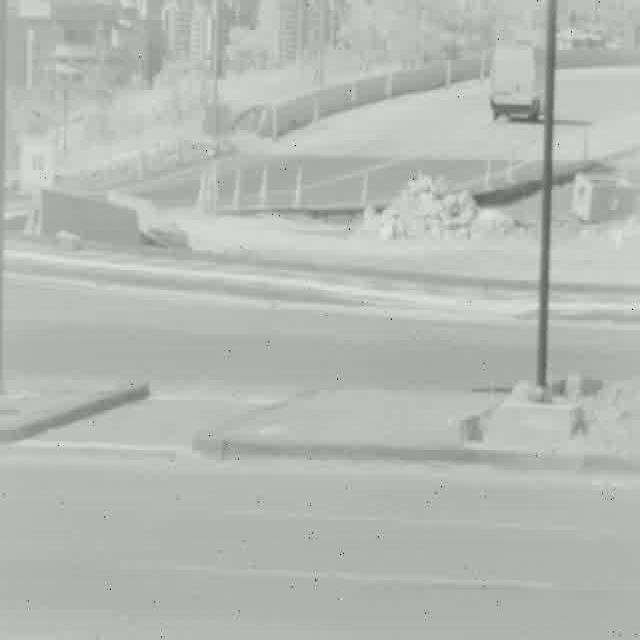Car: (487, 38, 547, 123)
